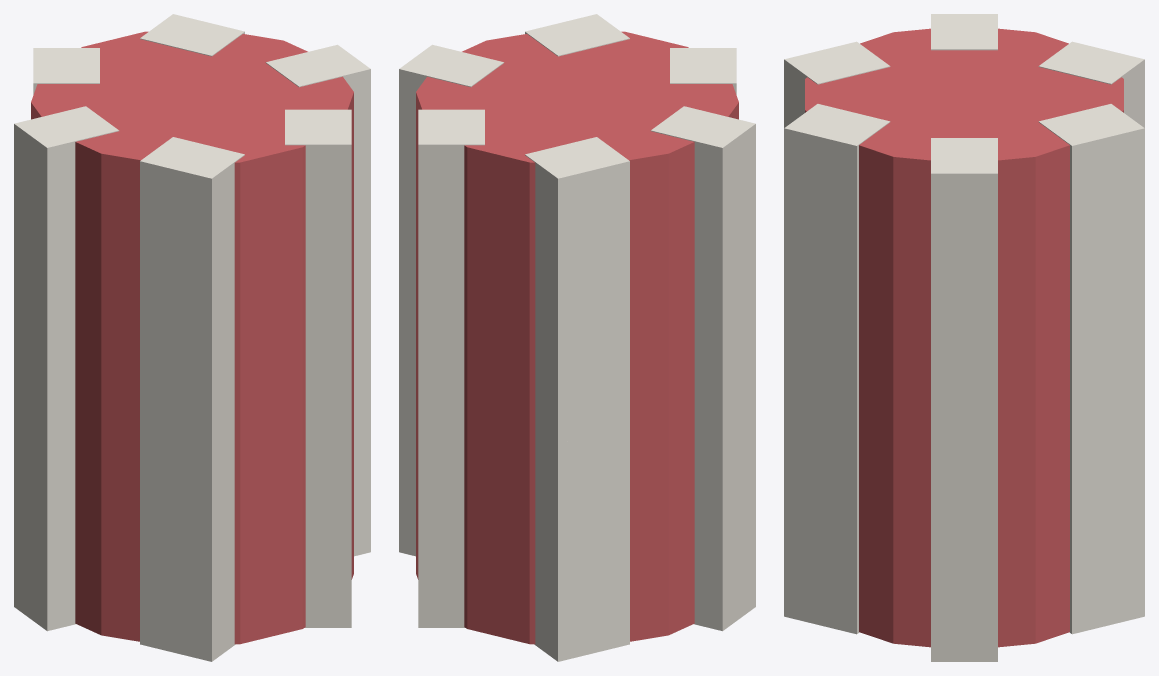
Rendered from casino-floor-and-back-rooms-chip-stack-red-007d94d2__27025.glb.
3 views of the same model, side by side, from view 1: azimuth 30°, elevation 25°; view 2: azimuth 150°, elevation 25°; view 3: azimuth 270°, elevation 25° (orthographic).
Parts seen in each view (by area): view 1: chip-stack-red; view 2: chip-stack-red; view 3: chip-stack-red.
Part boxes in pixels (<box>): chip-stack-red: <box>14,14,370,661</box>; chip-stack-red: <box>399,14,755,661</box>; chip-stack-red: <box>784,14,1144,661</box>.
Size of the model in its own units: 0.045 by 0.0642 by 0.043.
